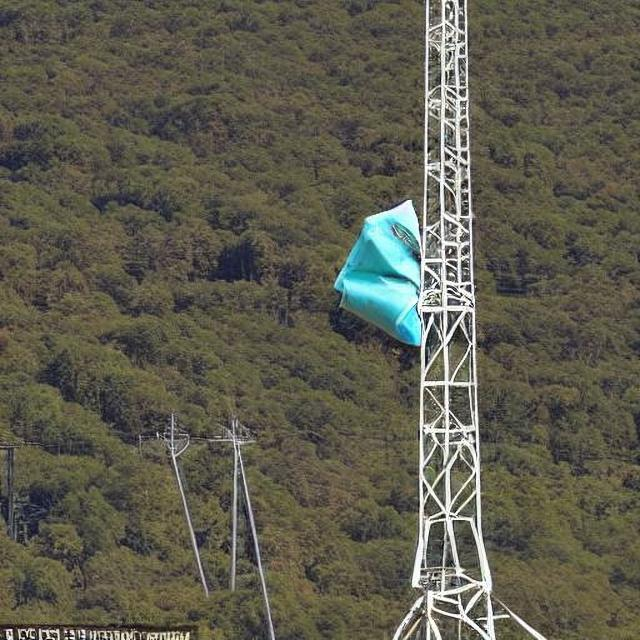plastic bag: (332, 200, 422, 344)
